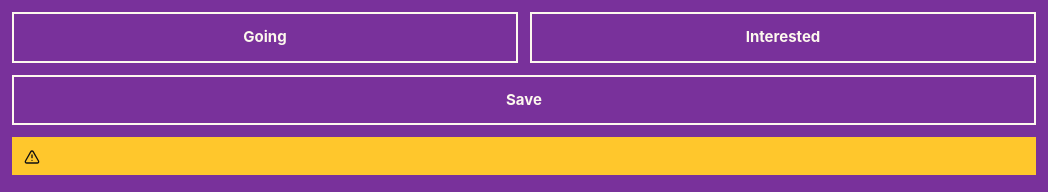
Scenario: RsvpButtons › saves the event
The image size is (1048, 192).
What coordinates should you click on to do the following:
click the button "Save"
I would click on:
 (524, 100)
Its box is [12,74,1036,125].
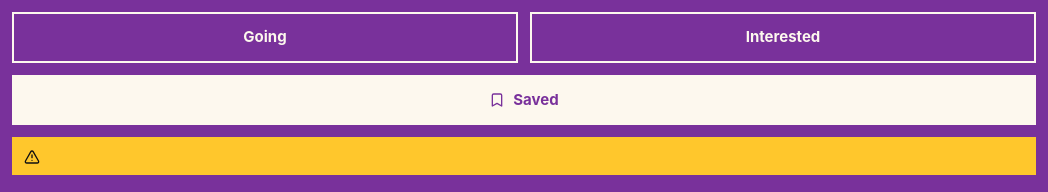
Result: the button "Saved" is shown at [12,74,1036,125]
